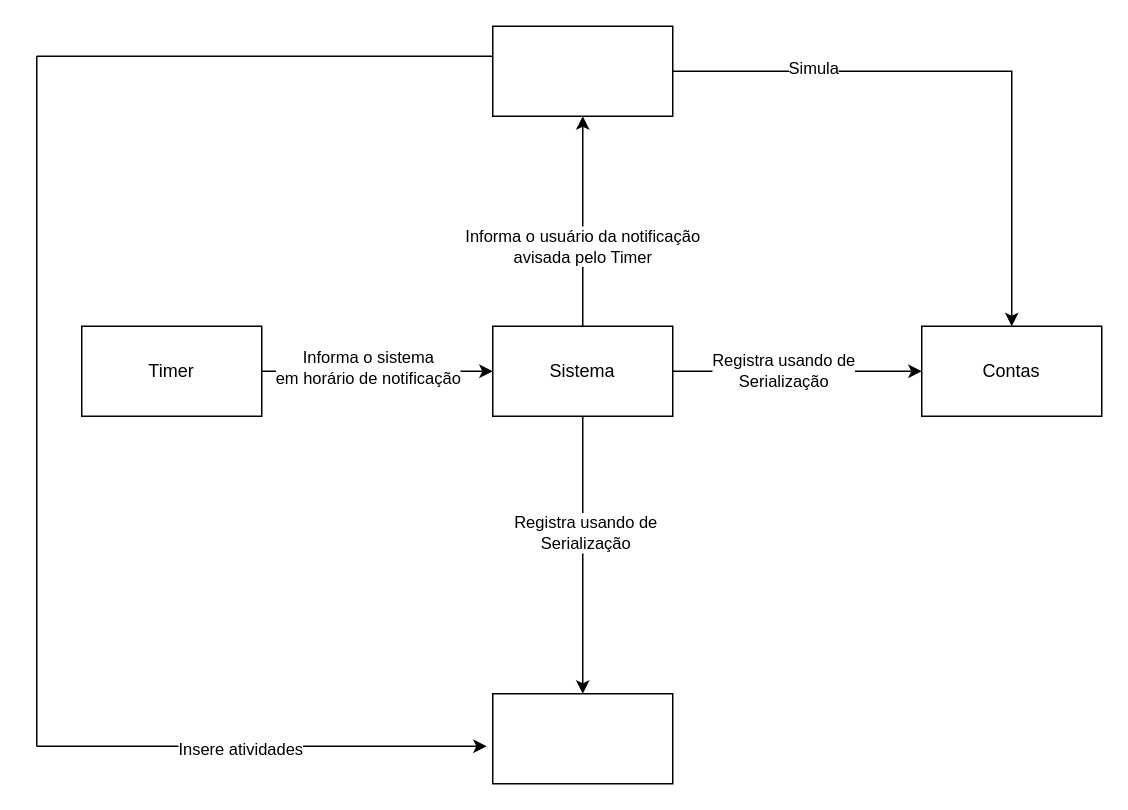
This 1128x810 diagram has some shape labels left out. The box of each missing label's shape, as (x1, y1, x2, y2) in pixels:
Calendário: (491, 692, 673, 784)
Usuário: (491, 25, 673, 116)
